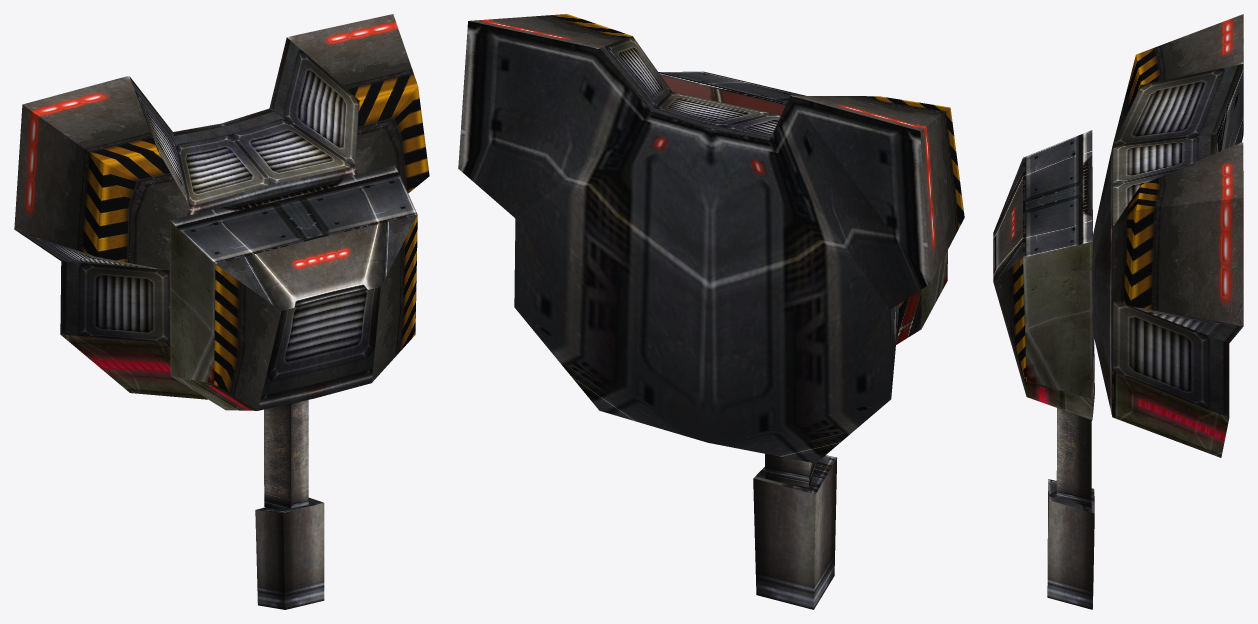
The model's file is turret-18.obj.
The picture shows the model from 3 angles, left to right: view 1: azimuth 30°, elevation 25°; view 2: azimuth 150°, elevation 25°; view 3: azimuth 270°, elevation 25°; orthographic projection. The views are drawn at different scales.
Parts seen in each view (by area): view 1: body, head, gun_01; view 2: body, gun_01, head; view 3: body, head, gun_01.
Boxes of the visible parts, box(x1,y1,x2,y2) form: body: box(14, 14, 429, 399); head: box(169, 165, 417, 410); gun_01: box(255, 400, 324, 609); body: box(458, 14, 964, 463); gun_01: box(753, 454, 837, 609); head: box(658, 71, 947, 344); body: box(1092, 14, 1243, 457); head: box(993, 130, 1094, 420); gun_01: box(1047, 408, 1094, 609).
Size of the model in its own units: 3.55 by 4.29 by 1.96.
Materials: 1 (1 with a texture image).
